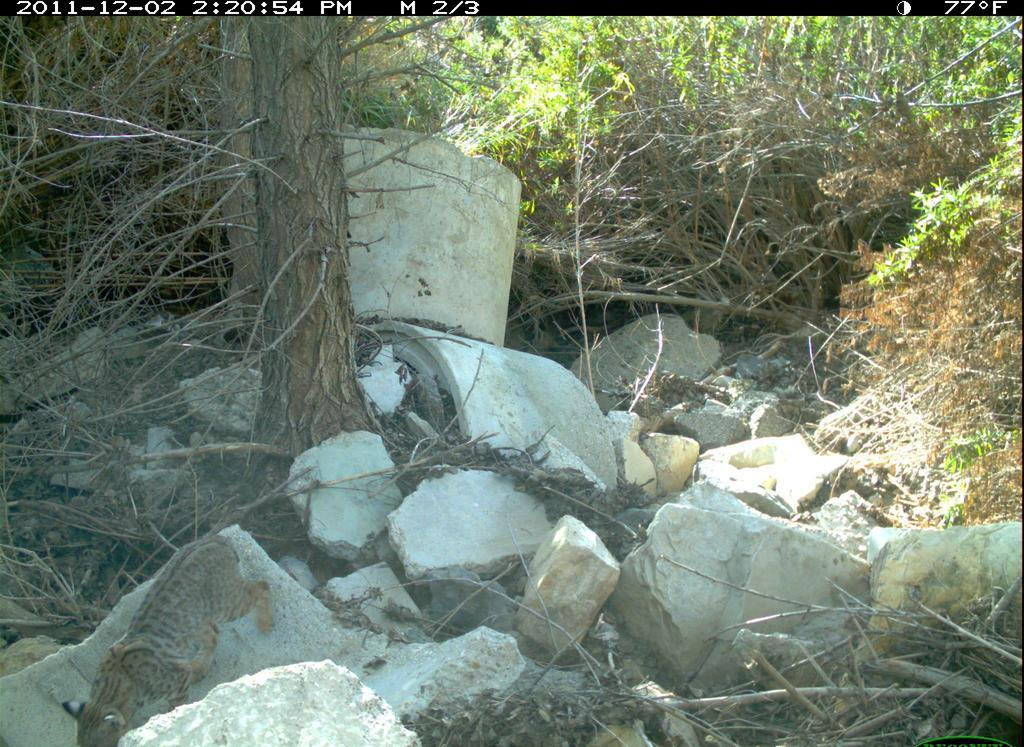bobcat: (59, 528, 287, 747)
